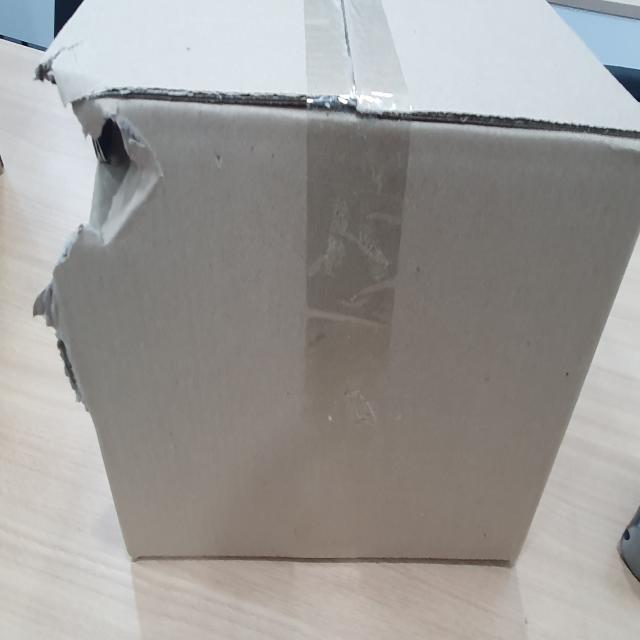hole: (37, 52, 167, 320)
